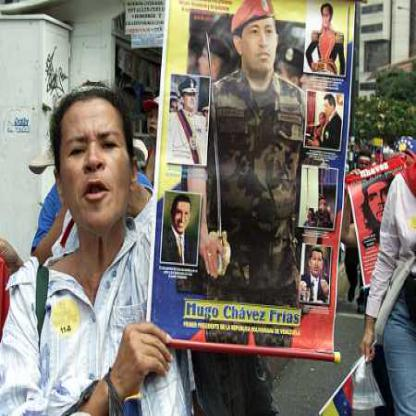face: (60, 92, 134, 235), (241, 1, 281, 77), (368, 169, 395, 225), (175, 198, 192, 234), (186, 86, 200, 111), (313, 251, 325, 277), (323, 5, 332, 27)
